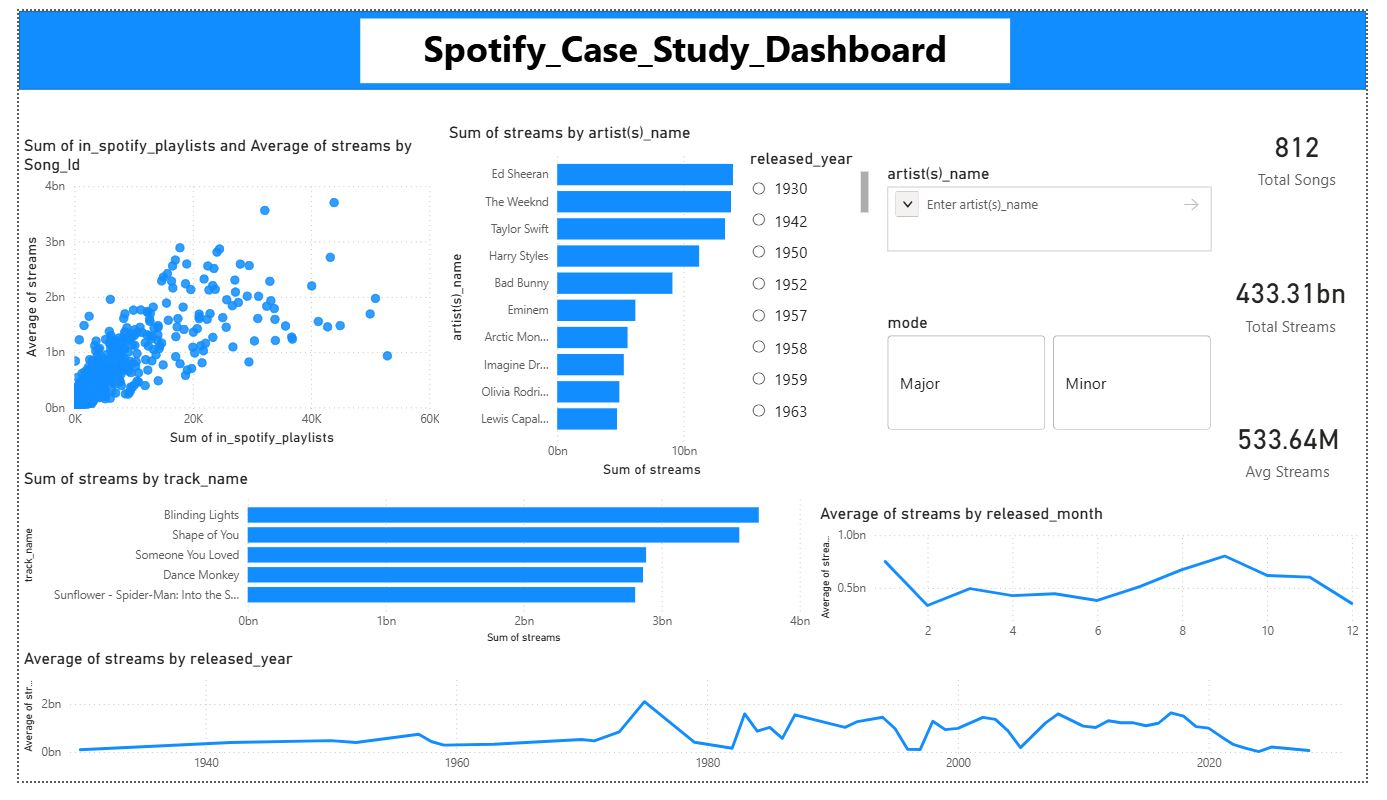

The page's visual inventory and layout, read from the dashboard file:
{"tool":"powerbi","page":{"name":"Page 1","canvas":[1400,800],"ordinal":0},"visuals":[{"type":"card","fields":{"Values":["spotify_case_study popularity_metrics.Total Streams"]},"box":[1242.9,240.3,157.1,124.7],"z":0},{"type":"card","fields":{"Values":["spotify_case_study popularity_metrics.Avg Streams"]},"box":[1244.2,396.1,148.1,115.6],"z":1000},{"type":"card","fields":{"Values":["spotify_case_study songs_master.Total Songs"]},"box":[1255.8,92.2,144.2,116.9],"z":2000},{"type":"clusteredBarChart","fields":{"Category":["spotify_case_study songs_master.track_name"],"Y":["Sum(spotify_case_study popularity_metrics.streams)"]},"box":[0,475.3,827.3,187],"z":3000},{"type":"shape","box":[0,0,1400,81.8],"z":4000},{"type":"textbox","box":[354.5,7.8,675.3,67.5],"z":5000},{"type":"lineChart","fields":{"Category":["spotify_case_study songs_master.released_year"],"Y":["Avg(spotify_case_study popularity_metrics.streams)"]},"box":[0,662.3,1384.4,137.7],"z":6000},{"type":"lineChart","fields":{"Category":["spotify_case_study songs_master.released_month"],"Y":["Avg(spotify_case_study popularity_metrics.streams)"]},"box":[827.3,511.7,572.7,150.6],"z":7000},{"type":"scatterChart","fields":{"X":["Avg(spotify_case_study platform_metrics.in_spotify_playlists)"],"Y":["Avg(spotify_case_study popularity_metrics.streams)"],"Category":["spotify_case_study songs_master.Song_Id"]},"box":[0,129.9,441.6,326],"z":8000},{"type":"barChart","fields":{"Category":["spotify_case_study songs_master.artist(s)_name"],"Y":["Sum(spotify_case_study popularity_metrics.streams)"]},"box":[441.6,115.6,301.3,374],"z":9000},{"type":"listSlicer","fields":{"Values":["spotify_case_study songs_master.released_year"]},"box":[754.5,142.9,133.8,297.4],"z":10000},{"type":"textSlicer","fields":{"Values":["spotify_case_study songs_master.artist(s)_name"]},"box":[897.4,158.4,346.8,96.1],"z":11000},{"type":"advancedSlicerVisual","fields":{"Values":["spotify_case_study songs_master.mode"]},"box":[897.4,313,346.8,127.3],"z":12000}]}

Visuals, with their boxes in screenshot pixels (x1, y1, x2, y2), scaled from the page's 1400x800 canvas onto the 1387x800 screenshot:
card - spotify_case_study popularity_metrics.Total Streams: {"left": 1231, "top": 240, "right": 1386, "bottom": 365}
card - spotify_case_study popularity_metrics.Avg Streams: {"left": 1233, "top": 396, "right": 1379, "bottom": 512}
card - spotify_case_study songs_master.Total Songs: {"left": 1244, "top": 92, "right": 1386, "bottom": 209}
clusteredBarChart - spotify_case_study songs_master.track_name x Sum(spotify_case_study popularity_metrics.streams): {"left": 0, "top": 475, "right": 820, "bottom": 662}
shape: {"left": 0, "top": 0, "right": 1386, "bottom": 82}
textbox: {"left": 351, "top": 8, "right": 1020, "bottom": 75}
lineChart - spotify_case_study songs_master.released_year x Avg(spotify_case_study popularity_metrics.streams): {"left": 0, "top": 662, "right": 1372, "bottom": 799}
lineChart - spotify_case_study songs_master.released_month x Avg(spotify_case_study popularity_metrics.streams): {"left": 820, "top": 512, "right": 1386, "bottom": 662}
scatterChart - Avg(spotify_case_study platform_metrics.in_spotify_playlists) x Avg(spotify_case_study popularity_metrics.streams): {"left": 0, "top": 130, "right": 437, "bottom": 456}
barChart - spotify_case_study songs_master.artist(s)_name x Sum(spotify_case_study popularity_metrics.streams): {"left": 437, "top": 116, "right": 736, "bottom": 490}
listSlicer - spotify_case_study songs_master.released_year: {"left": 747, "top": 143, "right": 880, "bottom": 440}
textSlicer - spotify_case_study songs_master.artist(s)_name: {"left": 889, "top": 158, "right": 1233, "bottom": 254}
advancedSlicerVisual - spotify_case_study songs_master.mode: {"left": 889, "top": 313, "right": 1233, "bottom": 440}
